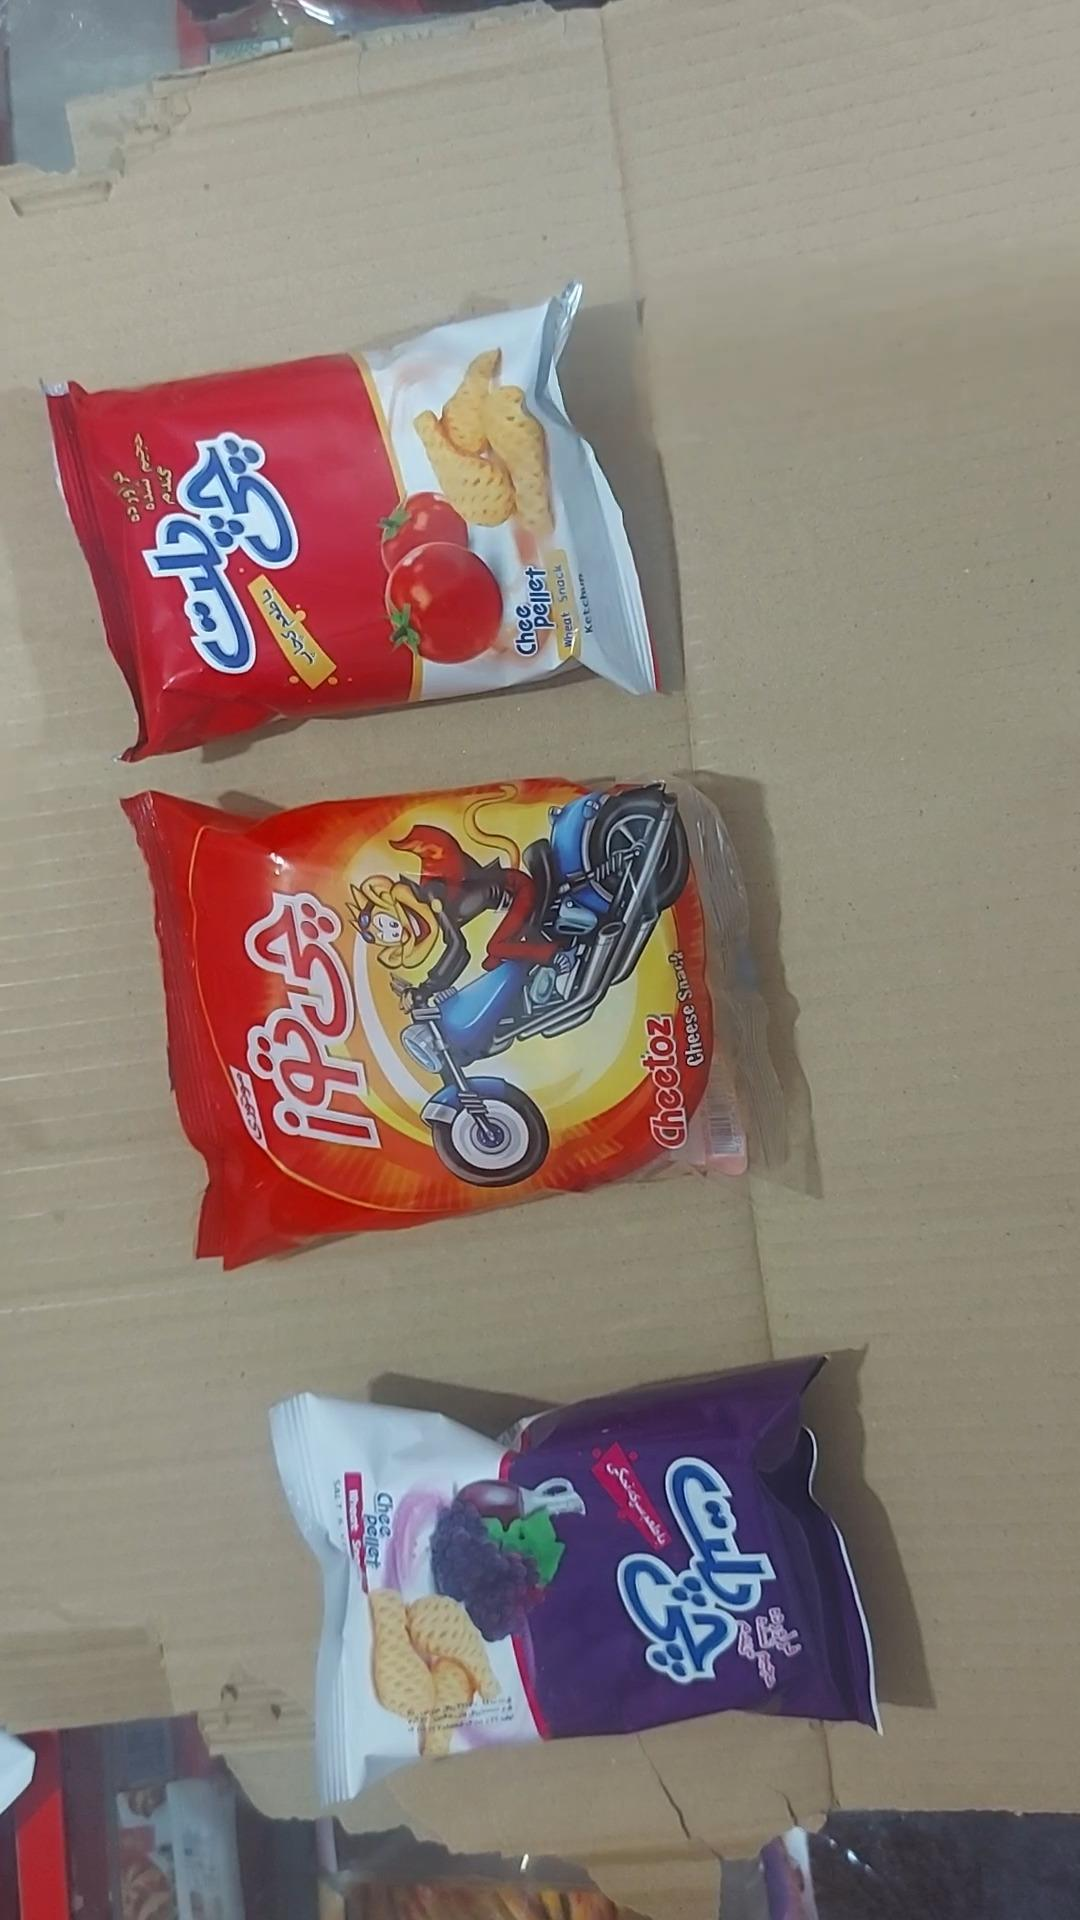Chee pellet ketchup: (45, 284, 661, 760)
Chee pellet vinegar: (272, 1357, 880, 1807)
Cheetoz snack 30g: (123, 779, 785, 1269)
